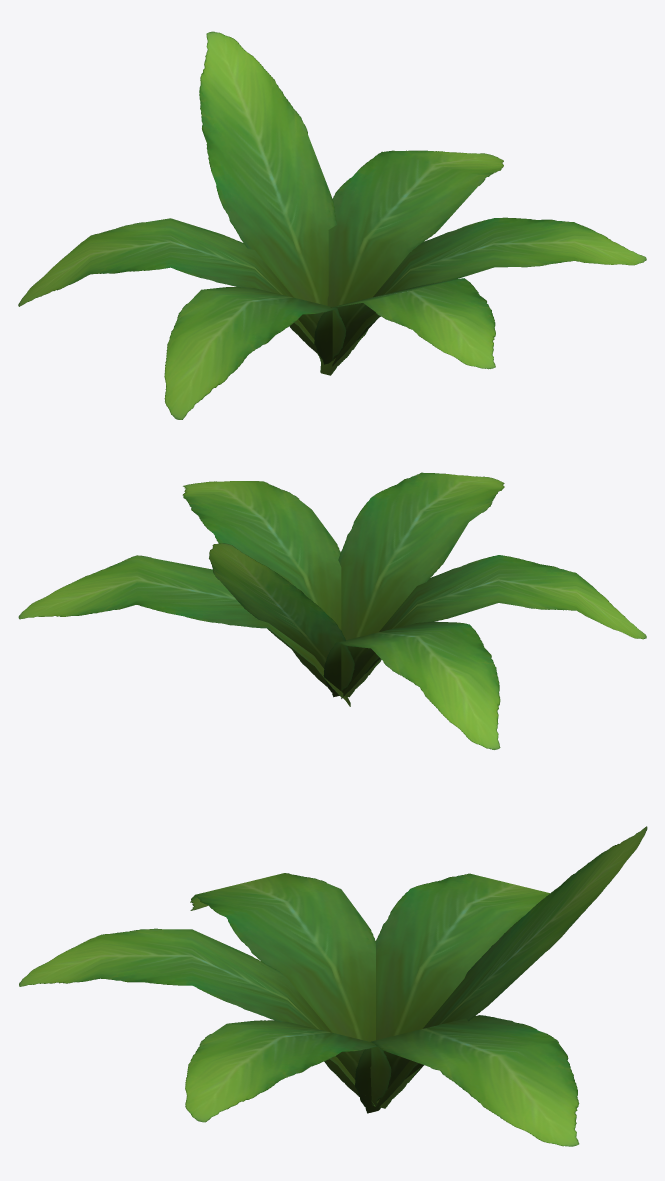
File: 植被绿草01.FBX
3 views of the same model, one above another, from view 1: azimuth 30°, elevation 25°; view 2: azimuth 150°, elevation 25°; view 3: azimuth 270°, elevation 25° (orthographic). The views are drawn at different scales.
Visible parts, largest first — view 1: 植被绿草01; view 2: 植被绿草01; view 3: 植被绿草01.
Boxes of the visible parts, x1,y1,x2,y2 form: 植被绿草01: (18,31,646,419); 植被绿草01: (18,472,646,749); 植被绿草01: (19,826,647,1146).
Size of the model in its own units: 143 by 64.07 by 127.
Materials: 1 (1 with a texture image).
